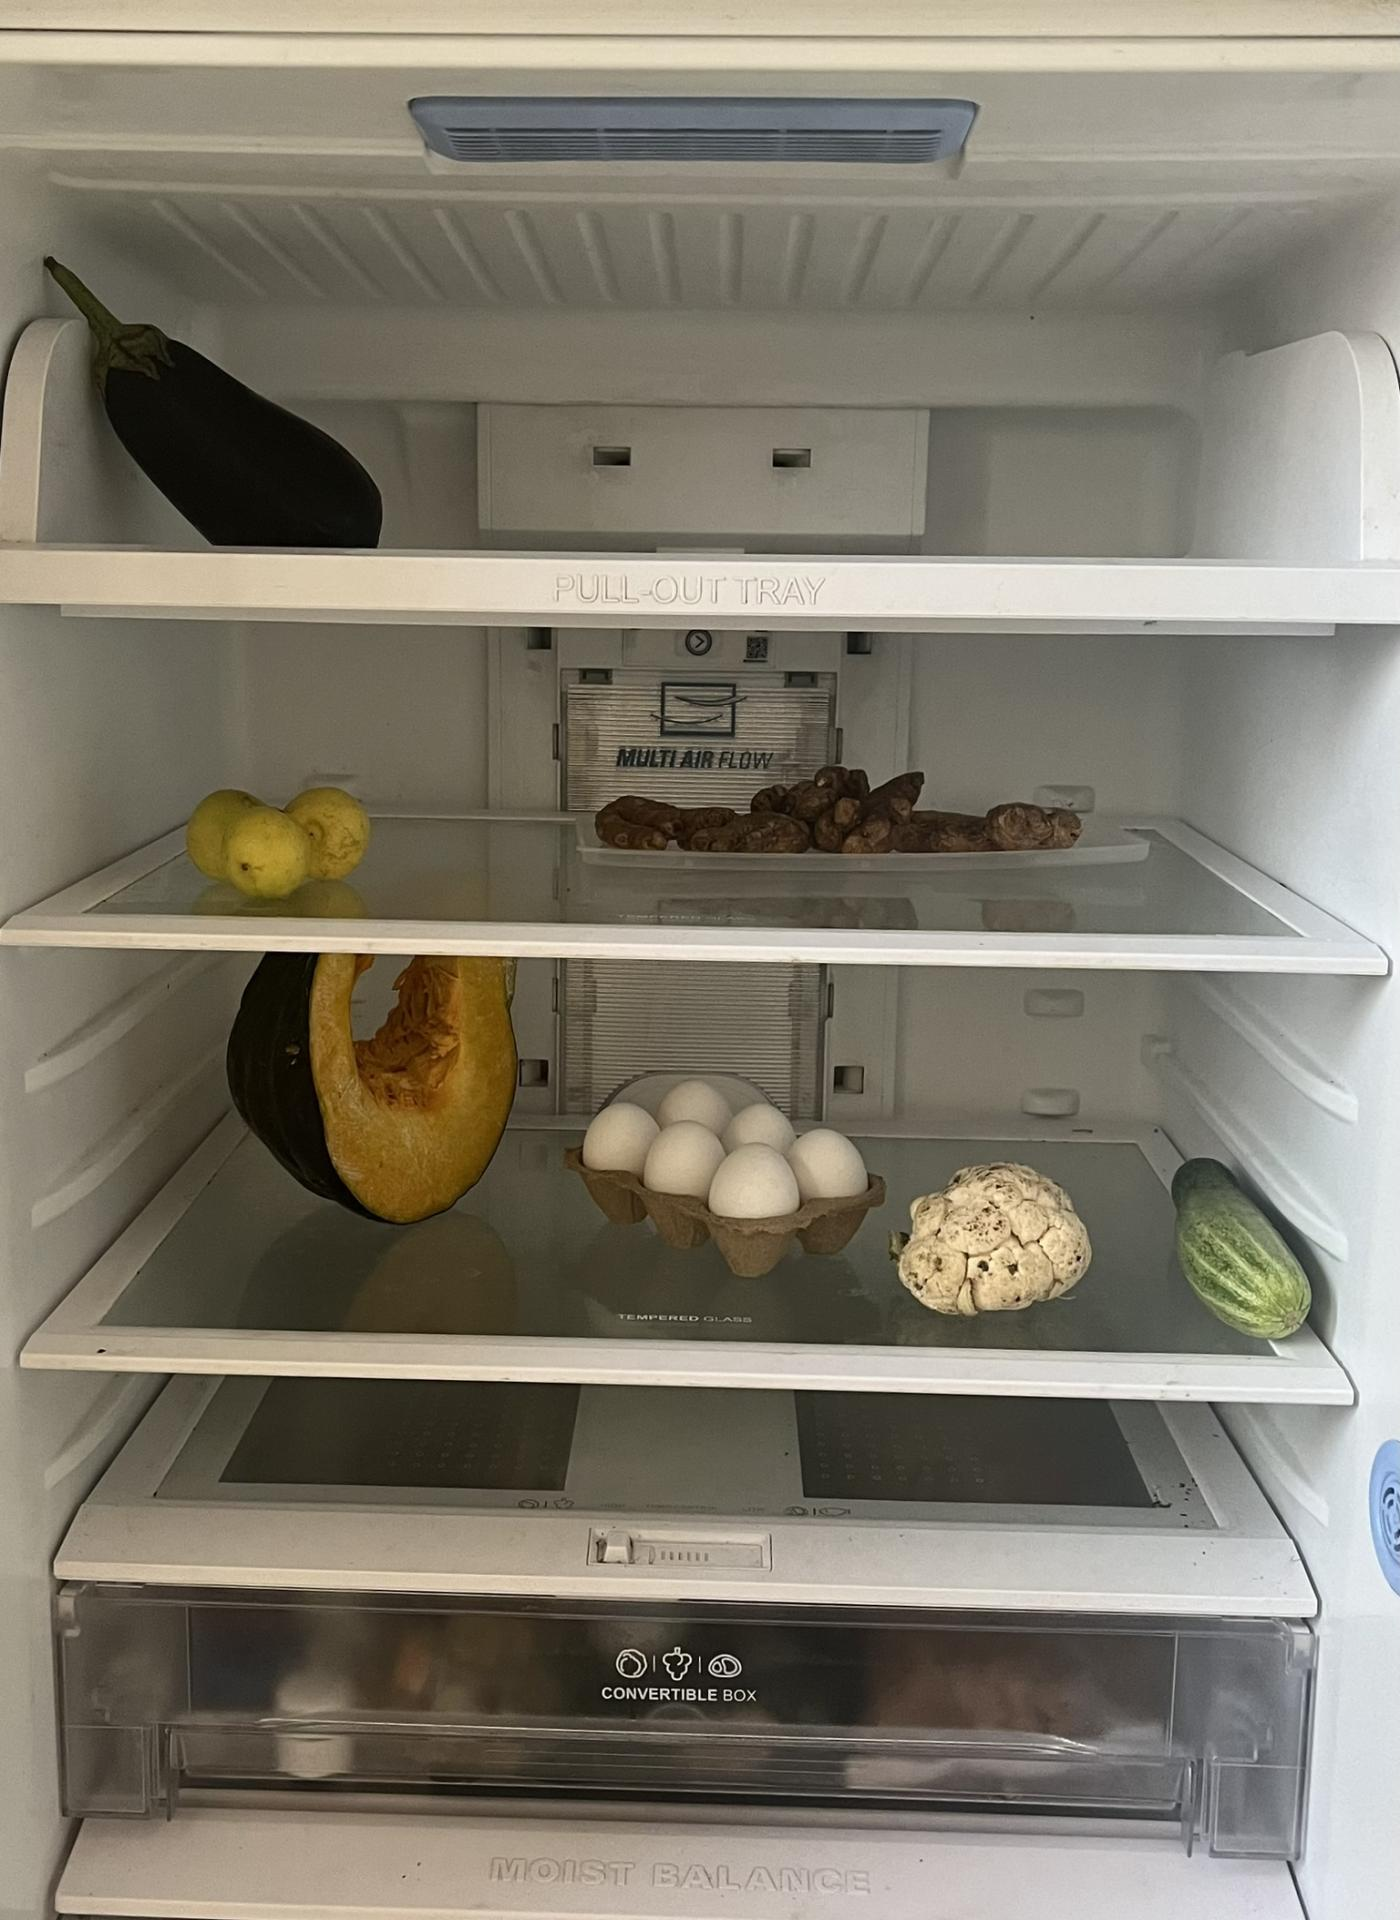brinjal: (48, 236, 395, 562)
cauliflower: (895, 1151, 1088, 1309)
cucumber: (1182, 1151, 1322, 1352)
egg: (580, 1075, 869, 1243)
garlic: (617, 762, 1085, 844)
lemon: (200, 783, 383, 893)
pumpkin: (230, 948, 514, 1234)
